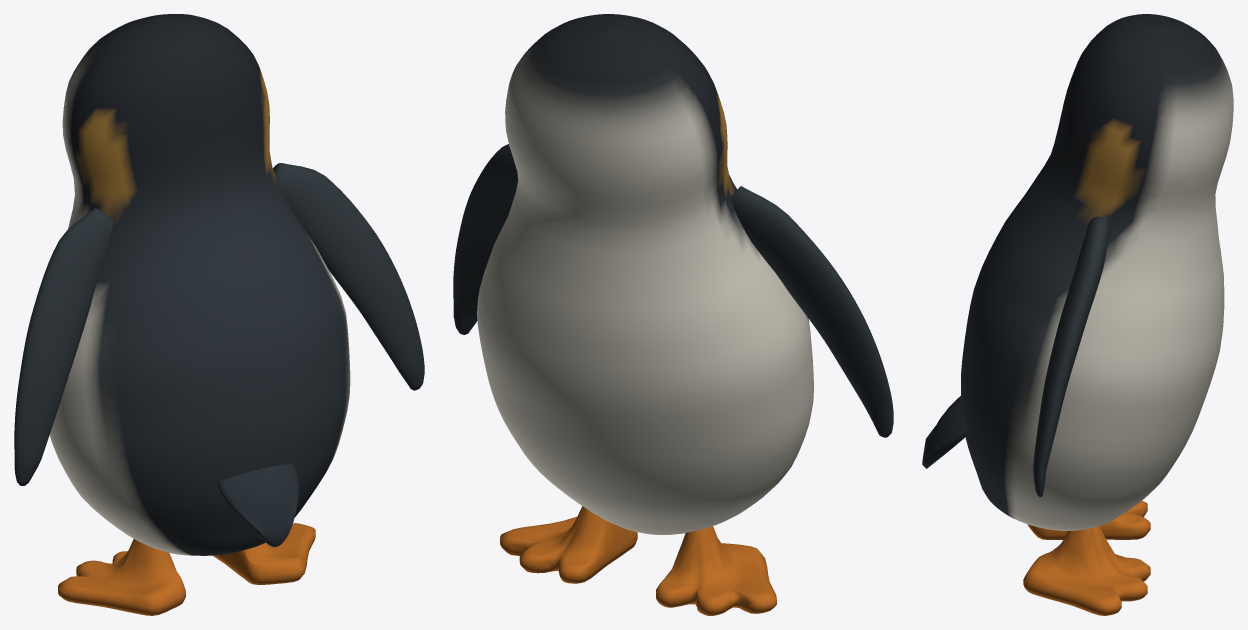
Rendered from candidate.glb.
3 renders of one model, left to right at view 1: azimuth 30°, elevation 25°; view 2: azimuth 150°, elevation 25°; view 3: azimuth 270°, elevation 25°, orthographic. The views are drawn at different scales.
Parts seen in each view (by area): view 1: RearBlockout; view 2: RearBlockout; view 3: RearBlockout.
Boxes of the visible parts, bbox=[...] form: RearBlockout: bbox=[14, 14, 424, 615]; RearBlockout: bbox=[453, 14, 893, 615]; RearBlockout: bbox=[922, 14, 1233, 615].
Bounding box in the file's own units: 1.36 × 1.69 × 0.8989.
